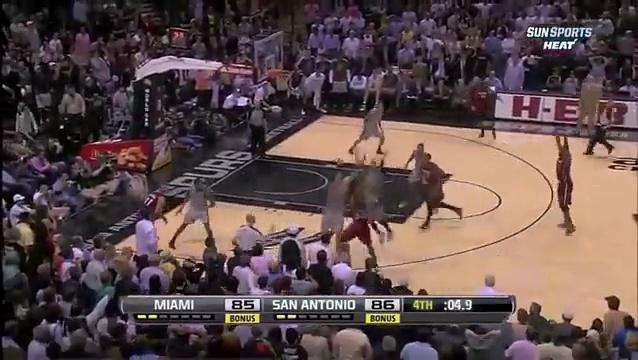Backboard: (254, 29, 286, 85)
Basket: (272, 68, 294, 94)
Person: (417, 152, 462, 230), (170, 178, 215, 254), (551, 130, 580, 237), (336, 181, 376, 258), (317, 163, 352, 250), (364, 164, 398, 243), (355, 96, 388, 158), (474, 80, 503, 143), (403, 141, 427, 212), (245, 98, 269, 160), (140, 180, 168, 225)
Referee: (589, 98, 619, 159)
Shot Clock: (170, 28, 189, 49)
